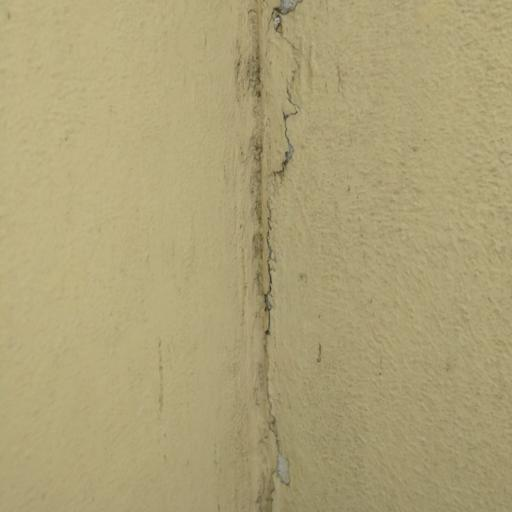minor_crack: (240, 0, 328, 503)
